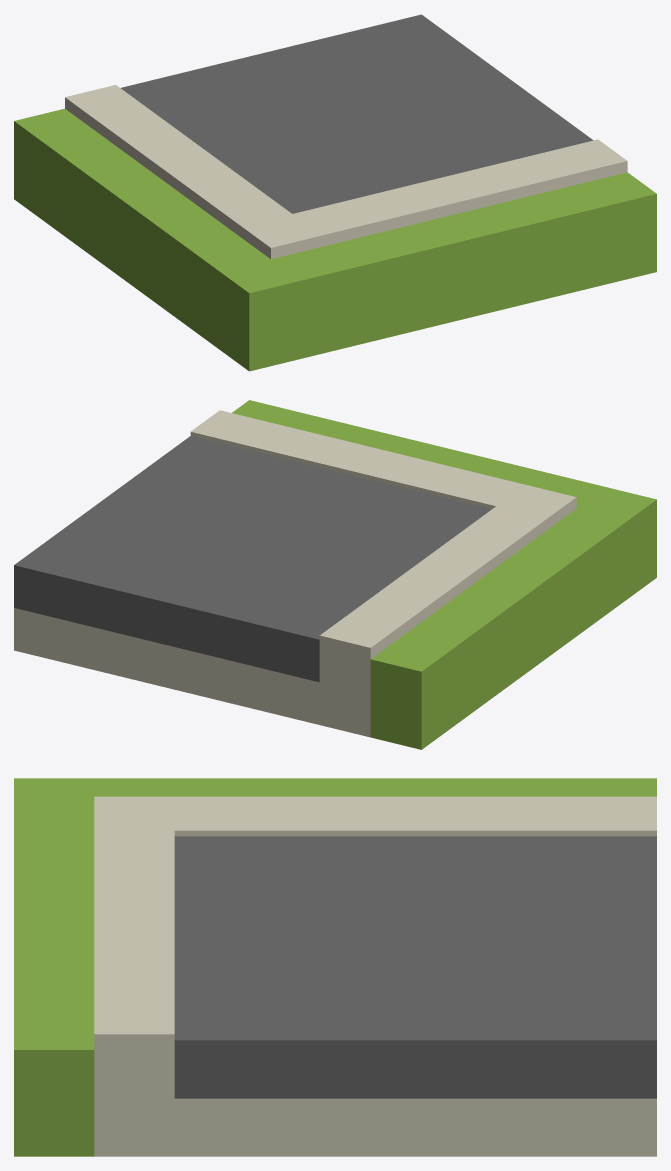
Rendered from roadTile_035.fbx.
3 renders of one model, top to bottom at view 1: azimuth 30°, elevation 25°; view 2: azimuth 150°, elevation 25°; view 3: azimuth 270°, elevation 25°, orthographic. The views are drawn at different scales.
Visible parts, largest first — view 1: roadTile_035; view 2: roadTile_035; view 3: roadTile_035.
Part boxes in pixels (<box>): roadTile_035: <box>14,14,656,371</box>; roadTile_035: <box>14,400,656,749</box>; roadTile_035: <box>14,778,656,1156</box>.
Size of the model in its own units: 118 by 24.8 by 118.
